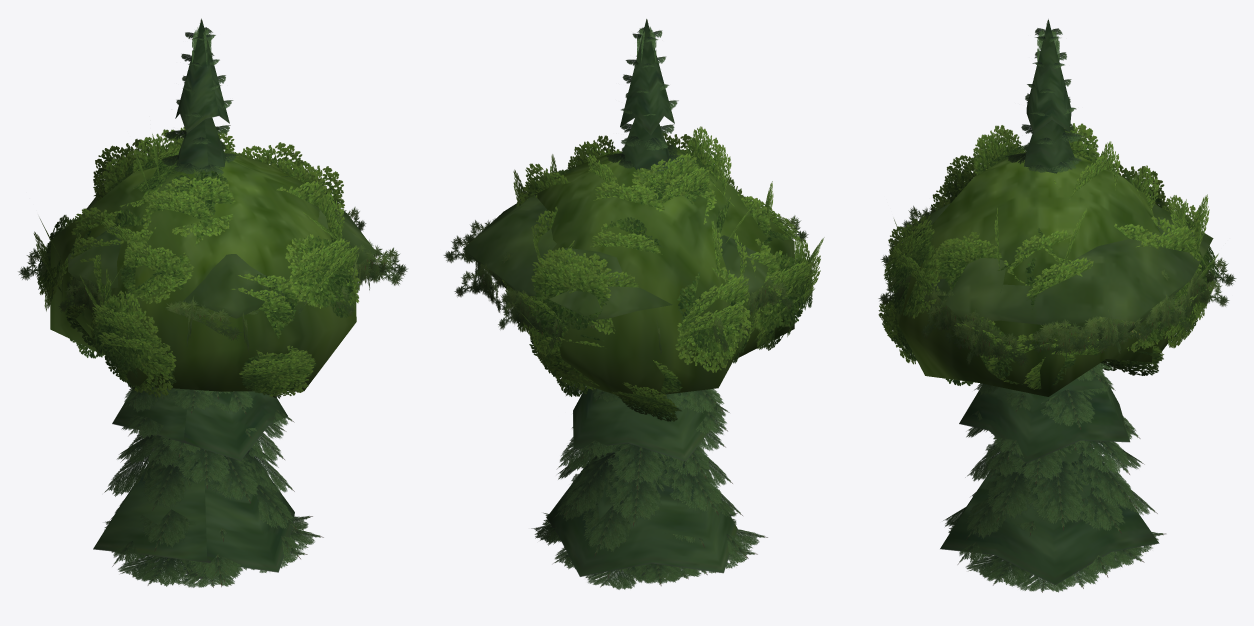
File: trees.glb
3 views of the same model, side by side, from view 1: azimuth 30°, elevation 25°; view 2: azimuth 150°, elevation 25°; view 3: azimuth 270°, elevation 25° (orthographic).
Visible parts, largest first — view 1: broadleaf_hi, broadleaf_lo, spruce_lo, spruce_hi, pine_lo, pine_hi; view 2: broadleaf_hi, broadleaf_lo, spruce_lo, spruce_hi, pine_lo, pine_hi; view 3: broadleaf_lo, broadleaf_hi, spruce_lo, spruce_hi, pine_lo, pine_hi.
Boxes of the visible parts, left/top/right/bottom form: broadleaf_hi: left=33, top=126, right=370, bottom=578; broadleaf_lo: left=50, top=149, right=356, bottom=578; spruce_lo: left=93, top=18, right=294, bottom=572; spruce_hi: left=104, top=20, right=323, bottom=587; pine_lo: left=68, top=197, right=376, bottom=318; pine_hi: left=18, top=207, right=407, bottom=351; broadleaf_hi: left=502, top=126, right=824, bottom=577; broadleaf_lo: left=522, top=149, right=794, bottom=398; spruce_lo: left=546, top=19, right=737, bottom=576; spruce_hi: left=531, top=20, right=767, bottom=589; pine_lo: left=463, top=194, right=768, bottom=321; pine_hi: left=443, top=215, right=810, bottom=354; broadleaf_lo: left=893, top=152, right=1210, bottom=396; broadleaf_hi: left=878, top=123, right=1219, bottom=389; spruce_lo: left=940, top=19, right=1159, bottom=584; spruce_hi: left=943, top=20, right=1165, bottom=592; pine_lo: left=903, top=204, right=1213, bottom=341; pine_hi: left=878, top=206, right=1236, bottom=365.
Size of the model in its own units: 12.03 by 19.43 by 11.99.
Materials: 1 (1 with a texture image).
